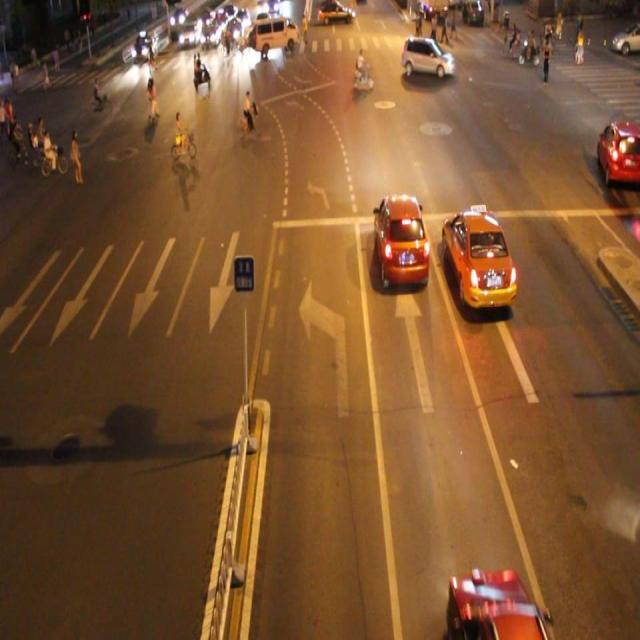car: (440, 204, 518, 308), (449, 565, 544, 640), (373, 192, 429, 288)
truck: (401, 34, 454, 80), (255, 18, 299, 53)
